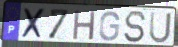7: (49, 8, 71, 41)
G: (98, 10, 121, 42)
H: (71, 9, 98, 41)
S: (123, 10, 147, 44)
U: (148, 11, 173, 45)
X: (21, 7, 47, 40)
